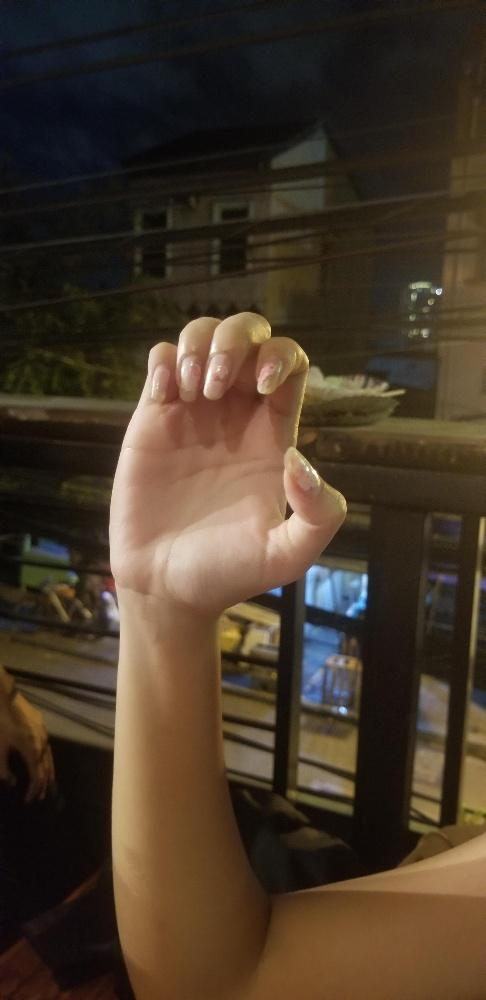e: (104, 309, 347, 618)
